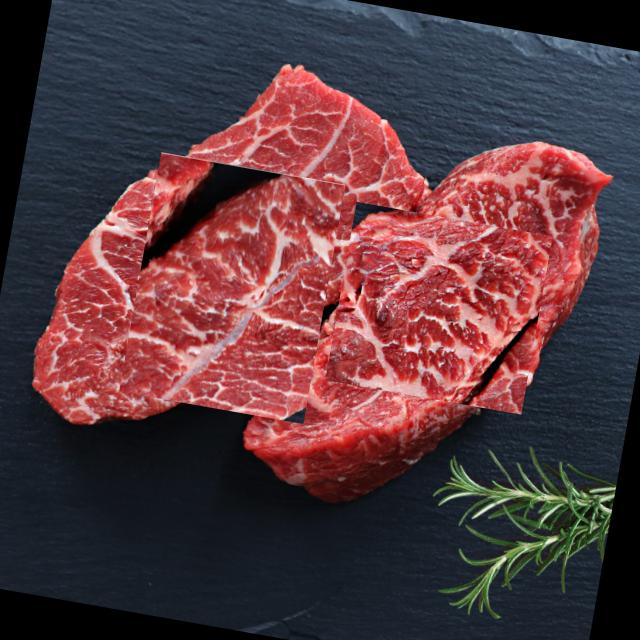beef: (118, 152, 346, 424), (323, 200, 552, 415)
